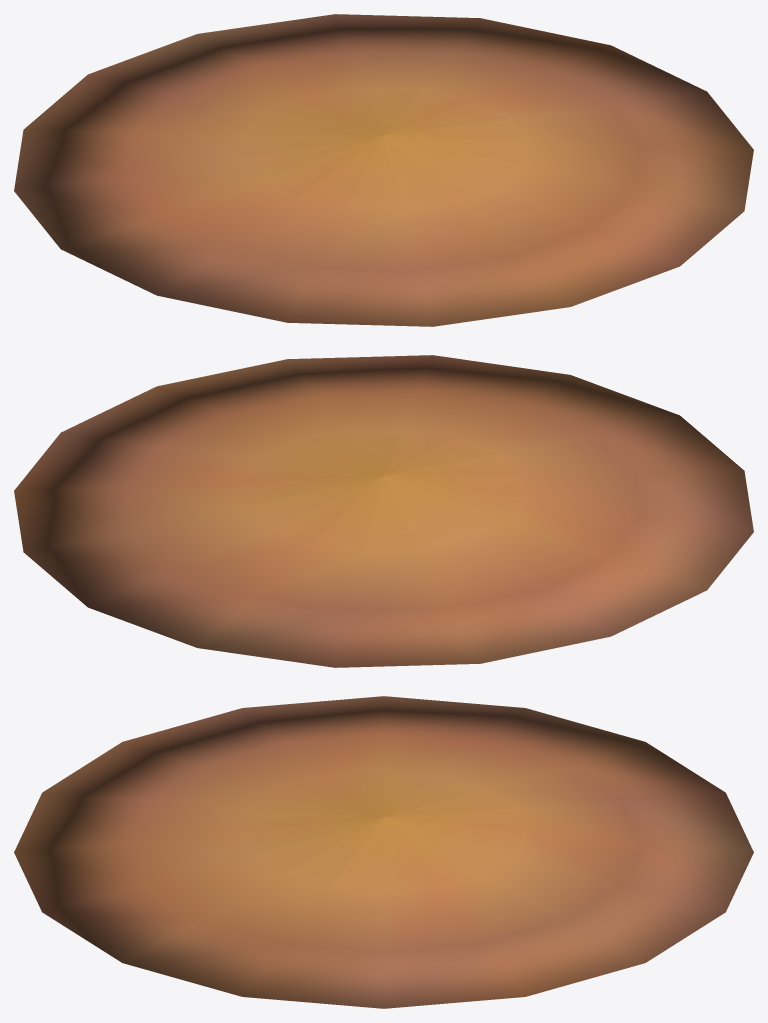
The model's file is space-galaxies-galaxy_v17.glb.
The picture shows the model from 3 angles, top to bottom: view 1: azimuth 30°, elevation 25°; view 2: azimuth 150°, elevation 25°; view 3: azimuth 270°, elevation 25°; orthographic projection.
Parts seen in each view (by area): view 1: Galaxy_v17; view 2: Galaxy_v17; view 3: Galaxy_v17.
Boxes of the visible parts, x1,y1,x2,y2 form: Galaxy_v17: [14, 14, 753, 326]; Galaxy_v17: [14, 355, 753, 667]; Galaxy_v17: [14, 696, 753, 1008].
Bounding box in the file's own units: 0.5 × 0.0436 × 0.5.
